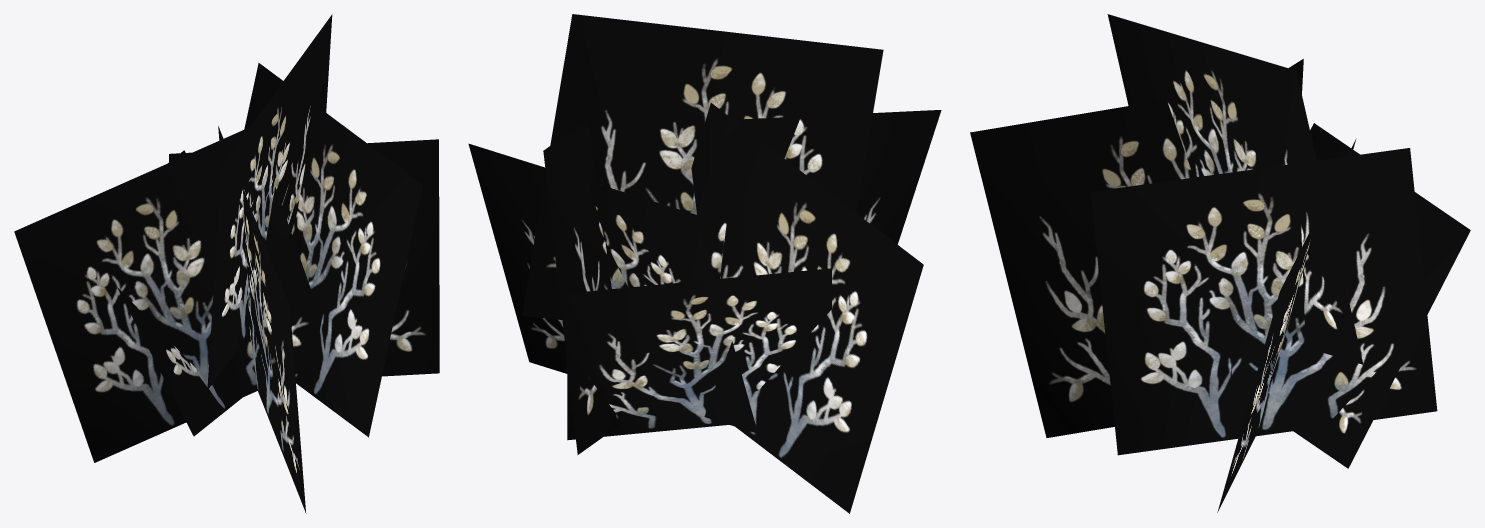
File: P_BushSnowDead02.obj
The picture shows the model from 3 angles, left to right: view 1: azimuth 30°, elevation 25°; view 2: azimuth 150°, elevation 25°; view 3: azimuth 270°, elevation 25°; orthographic projection. The views are drawn at different scales.
Bounding box in the file's own units: 4.48 × 4 × 4.09.
